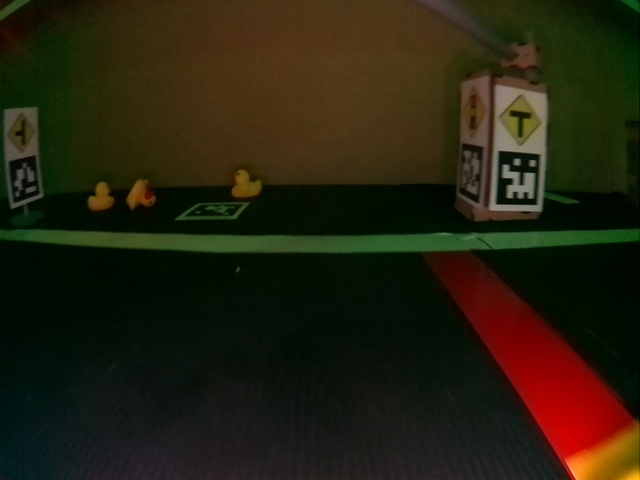Duckie: (126, 178, 155, 209), (230, 170, 261, 197), (89, 182, 113, 212)
Intersection sign: (497, 94, 543, 146), (7, 114, 37, 153)
QR code: (496, 152, 540, 208), (457, 142, 484, 202), (9, 155, 40, 205), (175, 201, 247, 219)
Signal sign: (460, 92, 487, 136)
